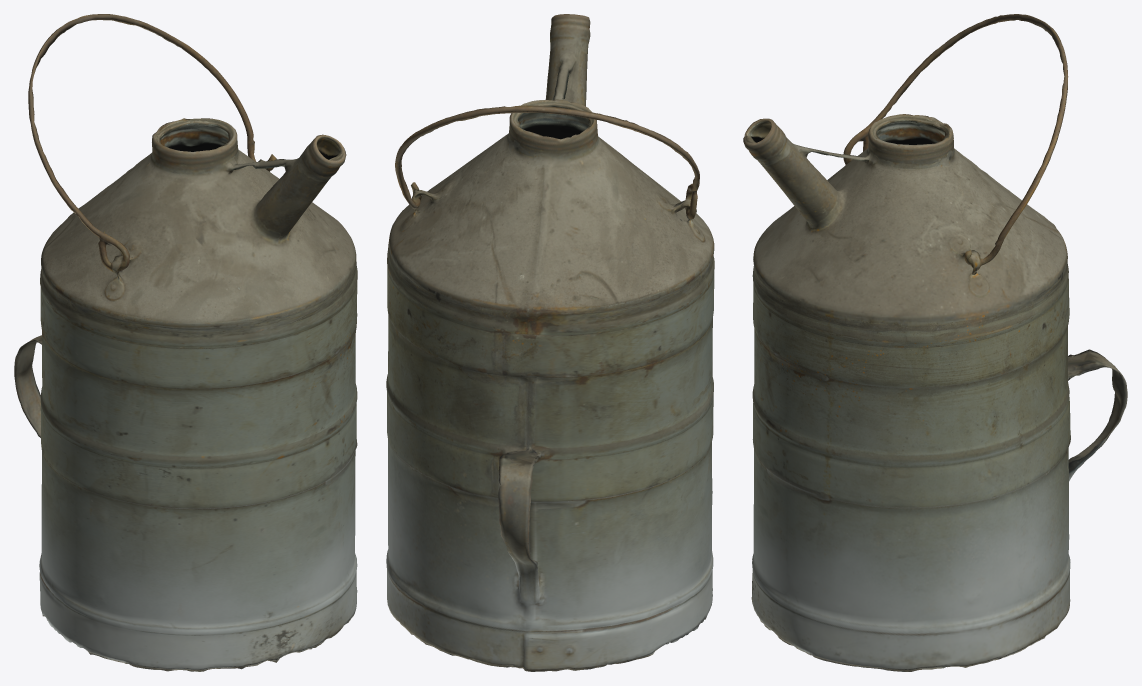
Rendered from obj_bidon_graisse_a0a009.glb.
3 renders of one model, left to right at view 1: azimuth 30°, elevation 25°; view 2: azimuth 150°, elevation 25°; view 3: azimuth 270°, elevation 25°, orthographic. The views are drawn at different scales.
Visible parts, largest first — view 1: obj_bidon_graisse_a0a009; view 2: obj_bidon_graisse_a0a009; view 3: obj_bidon_graisse_a0a009.
Boxes of the visible parts, x1,y1,x2,y2 form: obj_bidon_graisse_a0a009: (14,14,357,671); obj_bidon_graisse_a0a009: (386,14,714,671); obj_bidon_graisse_a0a009: (743,14,1127,671).
Size of the model in its own units: 0.2463 by 0.45 by 0.2848.
1 material, 1 textured.
